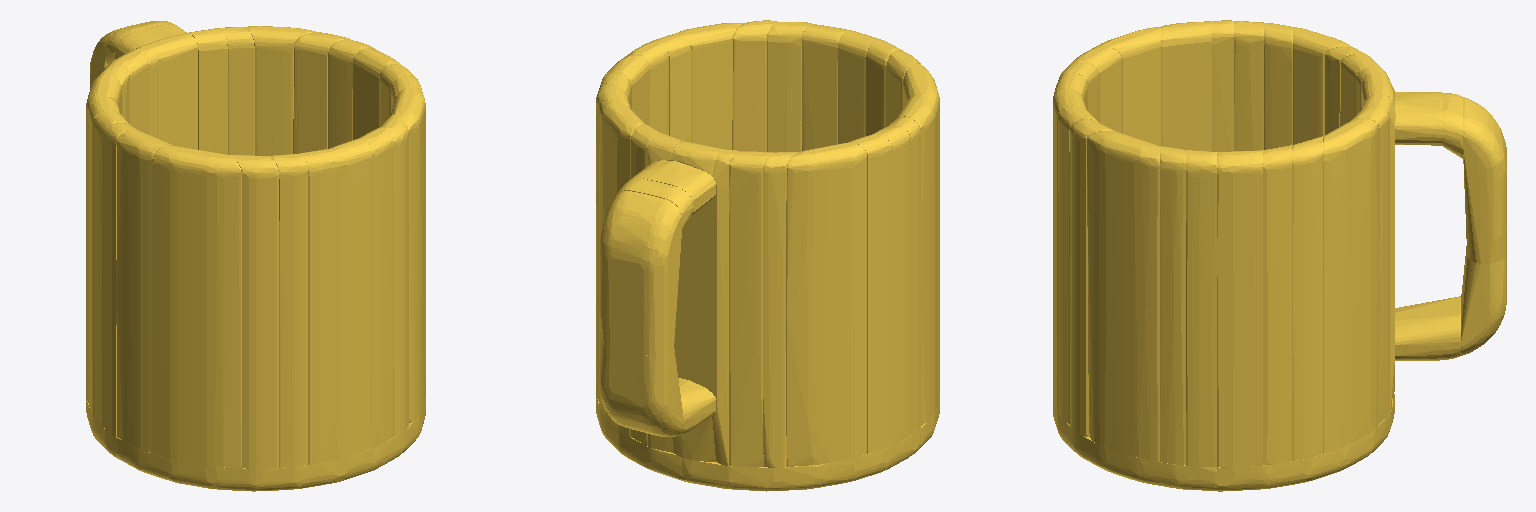
The robot description file, URDF, robot "66.urdf":
<?xml version="1.0" ?>
<robot name="66.urdf">
	<link name="baseLink">
		<inertial>
			<origin rpy="0 0 0" xyz="0 0 0"/>
				<mass value="0.1"/>
				<inertia ixx="6e-5" ixy="0" ixz="0" iyy="6e-5" iyz="0" izz="6e-5"/>
		</inertial>
		<visual>
			<origin rpy="0 0 0" xyz="0 0 0"/>
			<geometry>
				<mesh filename="25_decom_wt.obj" scale="1.07 1.07 0.96"/>
			</geometry>
			<material name="yellow">
				<color rgba="0.98 0.84 0.35 1"/>
			</material>
		</visual>
		<collision>
			<origin rpy="0 0 0" xyz="0 0 0"/>
			<geometry>
				<mesh filename="25_decom_wt.obj" scale="1.07 1.07 0.96"/>
			</geometry>
		</collision>
	</link>
</robot>

--- What the picture shows (computed from the rendered views, not written in the file) ---
Views: 3 orthographic renders of the robot side by side, from view 1: azimuth 30°, elevation 25°; view 2: azimuth 150°, elevation 25°; view 3: azimuth 270°, elevation 25°.
Robot: 66.urdf — 1 links, 0 joints (none); root link baseLink; default pose: every joint at zero.
Visible links, largest first — view 1: baseLink; view 2: baseLink; view 3: baseLink.
Link boxes in pixels (x1,y1,x2,y2): baseLink: [86, 21, 425, 491]; baseLink: [596, 20, 939, 491]; baseLink: [1053, 20, 1506, 491].
Size in the robot's own frame: 0.1039 by 0.1379 by 0.1123 metres.
1 mesh visuals loaded from 1 distinct referenced files (1 OBJ).